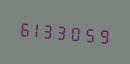five: (82, 21, 94, 46)
nine: (95, 22, 107, 47)
one: (30, 17, 42, 42)
six: (17, 15, 29, 40)
three: (43, 18, 55, 43), (56, 19, 68, 44)
zero: (69, 20, 81, 45)
